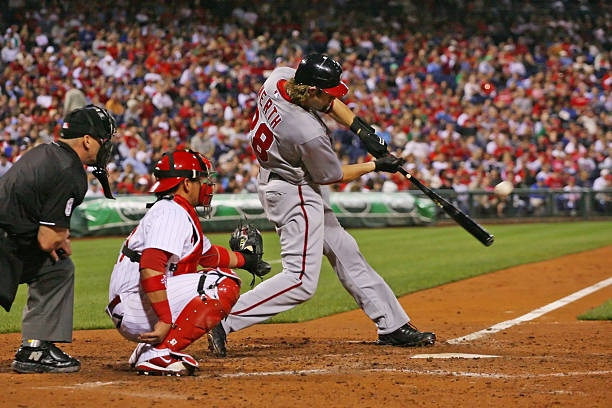bita: (387, 153, 495, 248)
